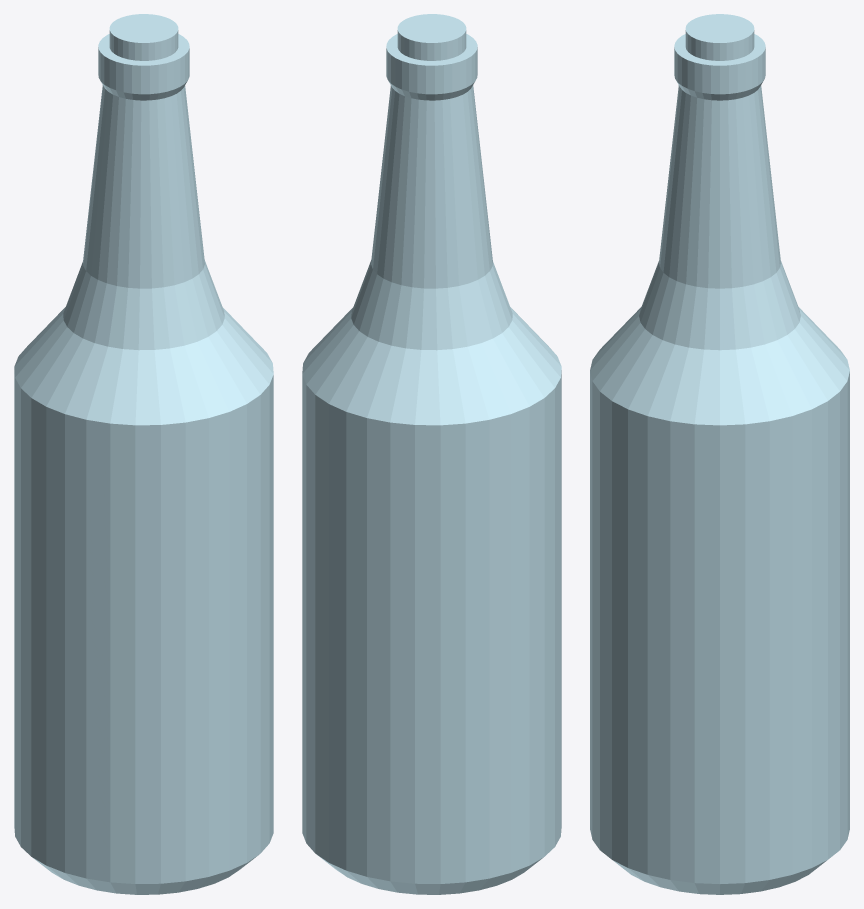
File: glassbottle2.fbx
3 views of the same model, side by side, from view 1: azimuth 30°, elevation 25°; view 2: azimuth 150°, elevation 25°; view 3: azimuth 270°, elevation 25° (orthographic).
Parts seen in each view (by area): view 1: Cylinder; view 2: Cylinder; view 3: Cylinder.
Boxes of the visible parts, bbox=[...] form: Cylinder: bbox=[14, 14, 273, 894]; Cylinder: bbox=[302, 14, 561, 894]; Cylinder: bbox=[590, 14, 849, 894].
Size of the model in its own units: 200 by 697 by 200.
